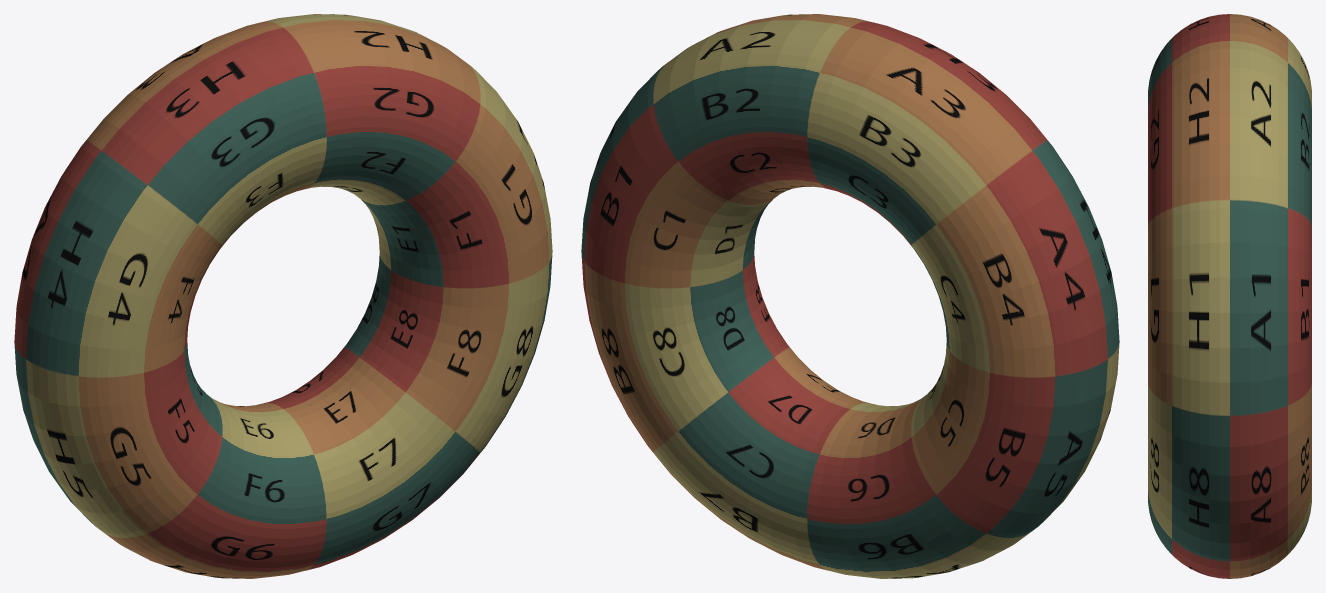
File: texture_torus_R5_r13.glb
The picture shows the model from 3 angles, left to right: view 1: azimuth 30°, elevation 25°; view 2: azimuth 150°, elevation 25°; view 3: azimuth 270°, elevation 25°; orthographic projection. The views are drawn at different scales.
Visible parts, largest first — view 1: world; view 2: world; view 3: world.
Part boxes in pixels (bbox=[...]): world: bbox=[14, 14, 552, 578]; world: bbox=[581, 14, 1119, 578]; world: bbox=[1148, 14, 1311, 578].
Bounding box in the file's own units: 18.8 × 18.76 × 5.46.
Materials: 1 (1 with a texture image).
